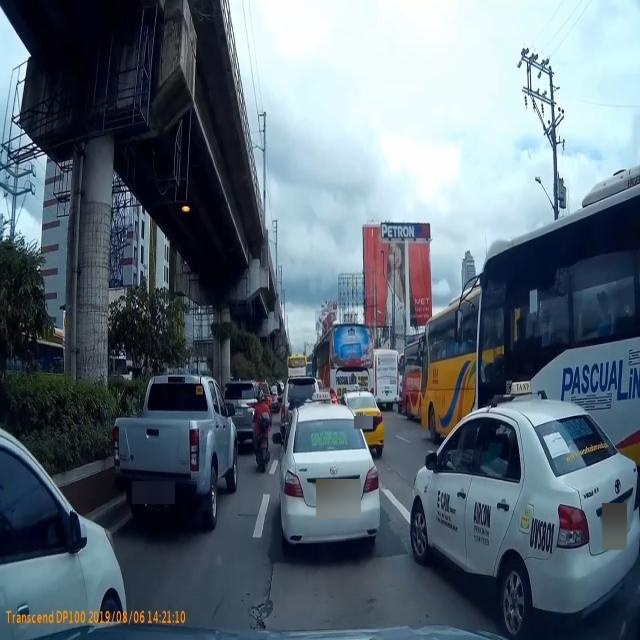bus: (477, 227, 640, 489), (411, 291, 507, 432), (306, 312, 376, 407), (358, 344, 406, 406)
car: (400, 388, 634, 628), (110, 366, 240, 540), (275, 394, 385, 558), (222, 373, 266, 443)
motorcycle: (253, 382, 275, 476)
